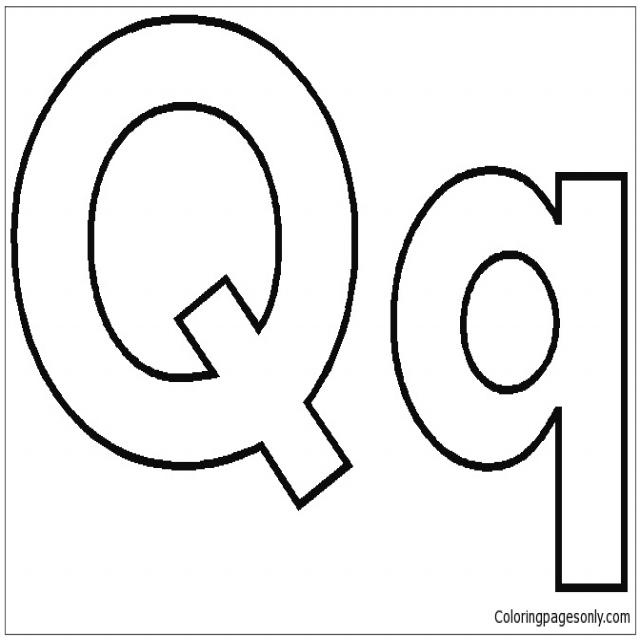Q: (6, 6, 382, 518)
